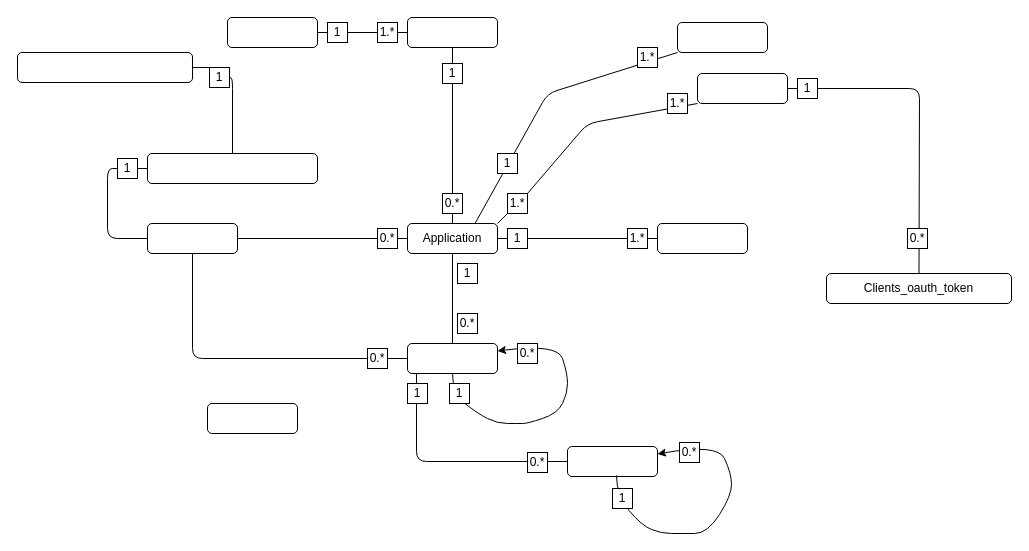
Image size: 1029x551. Some labels were removed from this diagram. The shapes that lost their labels are listed below. From the top down, each one's centre as x and y in pixels, then its label:
[272,32]: Entity
[452,32]: Organization
[722,37]: Cert_manager
[104,67]: Users_oauth_refresh_token
[742,88]: Client
[232,168]: Users_oauth_token
[192,238]: User
[702,238]: Resource
[452,358]: Role
[252,418]: Ectd
[612,461]: Permission
